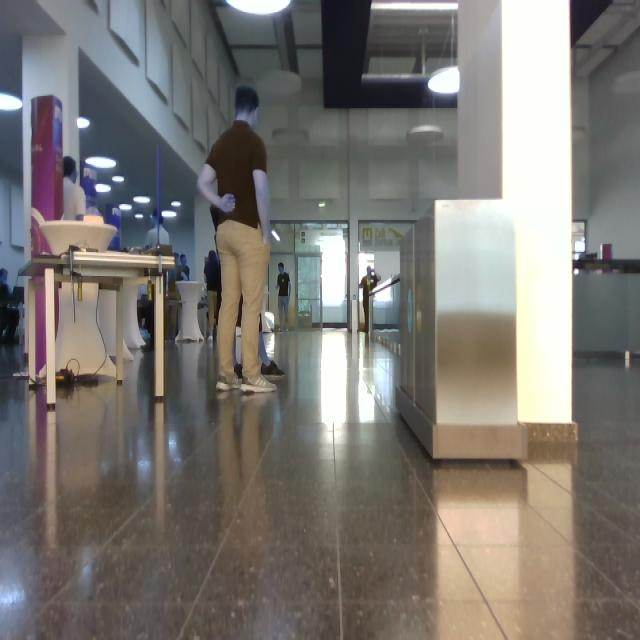door: (297, 224, 347, 328)
light bulb: (82, 156, 156, 228), (226, 1, 291, 16), (429, 66, 460, 96), (429, 65, 460, 94), (382, 4, 455, 12), (161, 201, 182, 224), (1, 93, 22, 112), (78, 117, 91, 136), (95, 184, 111, 193), (273, 229, 280, 242), (120, 204, 132, 210), (135, 213, 144, 220), (172, 201, 180, 208)
person: (198, 86, 275, 392), (279, 264, 291, 332)
pillar: (459, 1, 578, 462), (24, 36, 79, 258)
table: (20, 246, 175, 398), (56, 282, 114, 374), (34, 210, 115, 256), (46, 312, 59, 406)
tiled floor: (1, 332, 640, 640)
trash bin: (397, 201, 526, 458)
